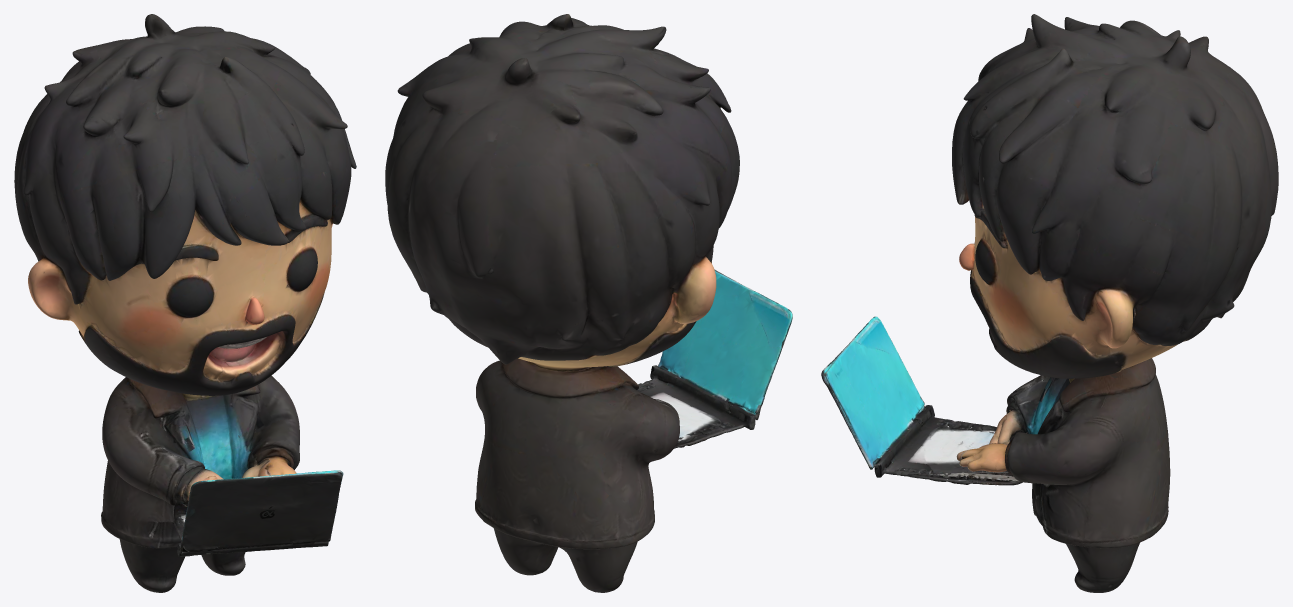
File: avatar-scroll.glb
3 renders of one model, left to right at view 1: azimuth 30°, elevation 25°; view 2: azimuth 150°, elevation 25°; view 3: azimuth 270°, elevation 25°, orthographic. The views are drawn at different scales.
Bounding box in the file's own units: 1.13 × 1.9 × 1.47.
Materials: 1 (1 with a texture image).
